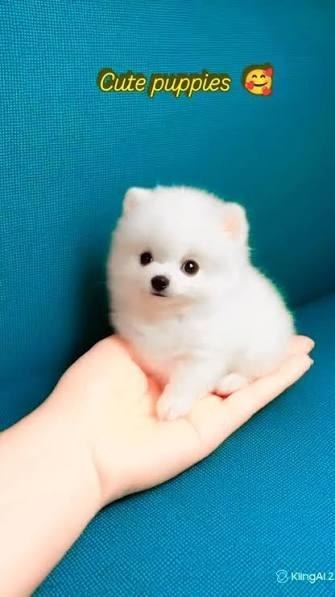puppy-dog: (105, 183, 298, 422)
